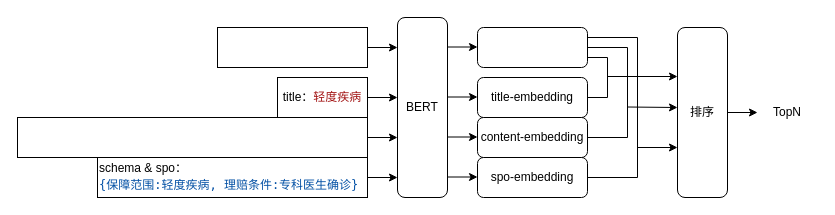
Some shapes in this 835 by 215 pixel diagram are drawn without their labels. The centre of each missing label's shape, as x and y in pixels:
"content： 指被保险人发生符合以下疾病定义所述条件的60种疾病..." belongs at (192,137).
"query-embedding" belongs at (532,47).
"query： 60种轻症有哪些" belongs at (292,47).
